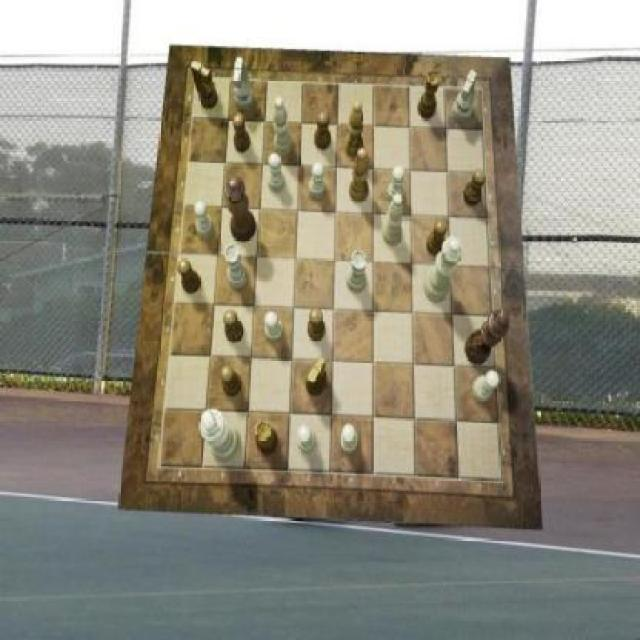bishop: (344, 100, 364, 158), (349, 149, 369, 203)
black-bishop: (464, 306, 510, 364)
black-king: (190, 60, 218, 109), (305, 357, 327, 397)
black-knight: (463, 170, 486, 206), (178, 259, 202, 293), (426, 220, 447, 256), (234, 114, 251, 154), (314, 111, 331, 149), (222, 365, 242, 397), (224, 311, 244, 343), (308, 308, 325, 342)
black-pawn: (225, 177, 258, 242)
black-queen: (418, 69, 442, 120), (256, 420, 278, 456)
black-rook: (274, 97, 293, 155), (382, 194, 402, 248)
white-bishop: (200, 409, 240, 463)
white-king: (452, 69, 476, 123), (234, 58, 254, 111)
white-knight: (472, 371, 500, 403), (194, 202, 213, 239), (388, 166, 405, 205), (264, 310, 284, 342), (309, 162, 326, 198), (268, 154, 284, 192), (340, 424, 358, 454), (297, 426, 316, 454)
white-pawn: (423, 236, 463, 302)
white-queen: (225, 243, 248, 289), (346, 251, 367, 293)
